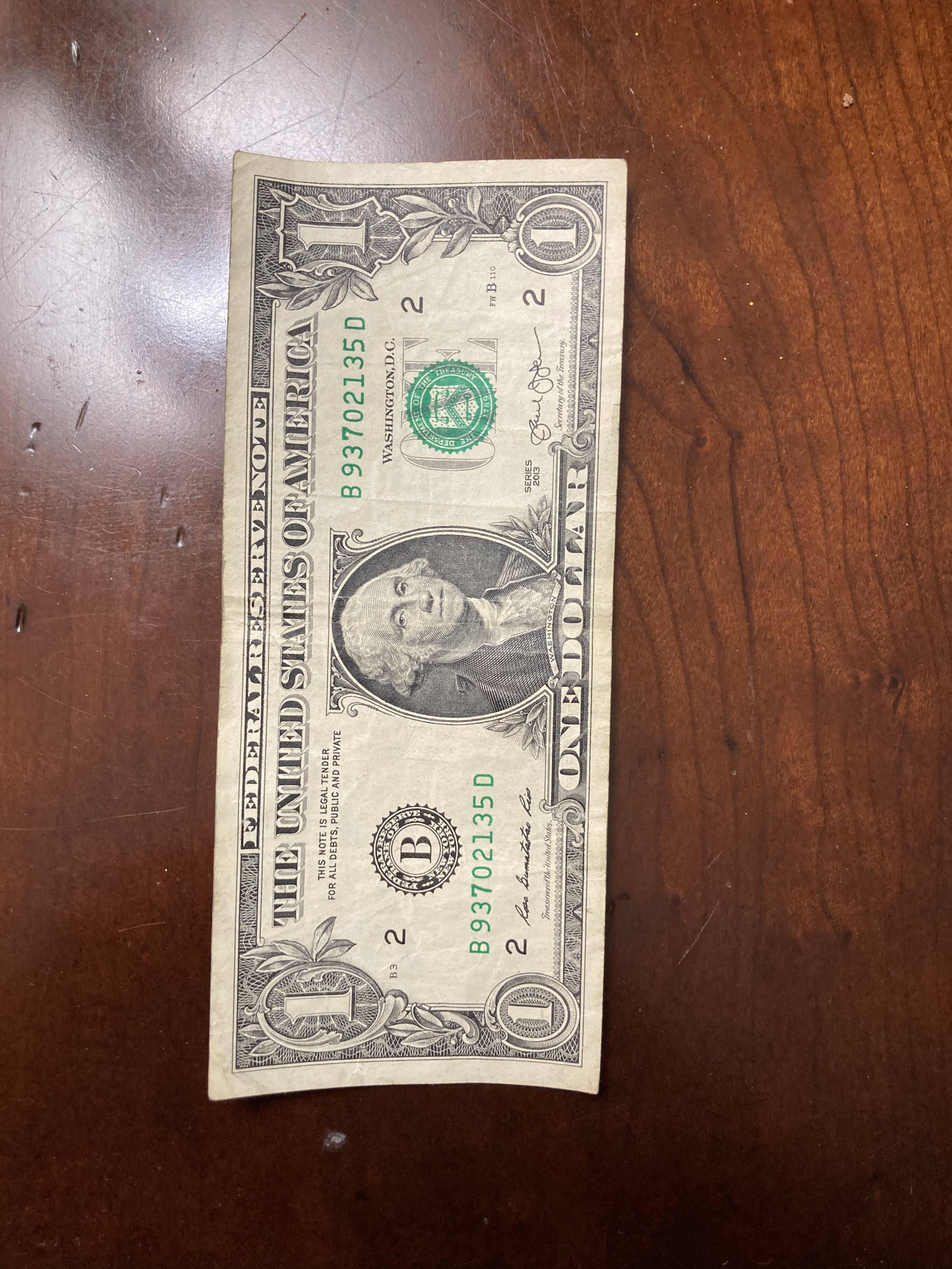one-front: (204, 157, 633, 1101)
